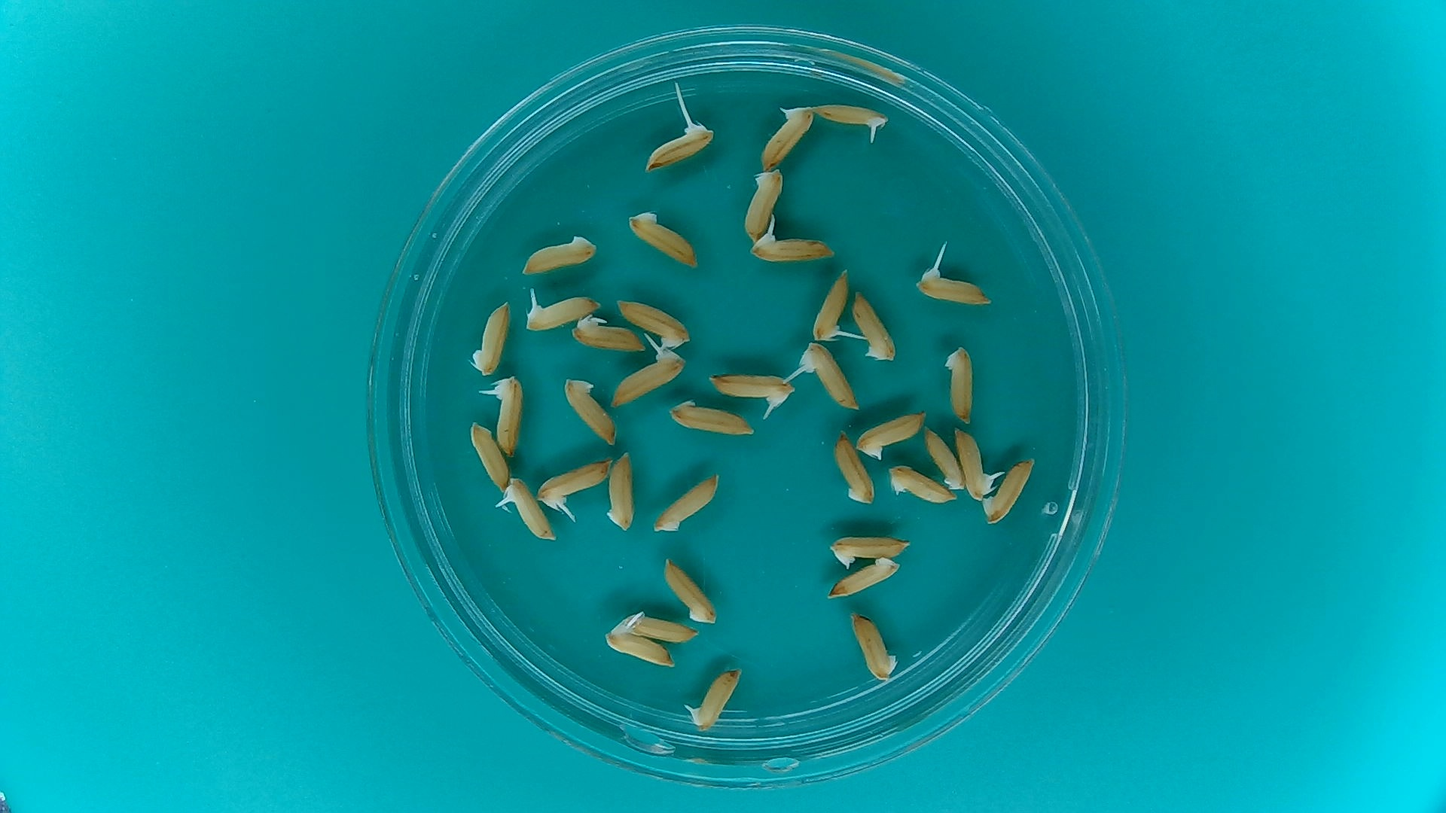no: (624, 206, 704, 271), (649, 468, 725, 536), (660, 554, 721, 626), (981, 453, 1038, 528), (847, 607, 902, 683), (852, 406, 929, 460), (517, 229, 601, 277), (850, 285, 899, 364), (565, 376, 618, 447), (830, 428, 877, 508), (823, 554, 904, 600), (737, 169, 786, 242), (667, 398, 758, 437), (466, 418, 513, 493), (941, 340, 981, 428), (825, 530, 914, 568), (471, 298, 511, 379), (920, 424, 965, 494), (885, 463, 956, 506), (606, 446, 638, 533), (620, 609, 699, 644)
yes: (609, 352, 686, 410), (800, 346, 861, 413), (615, 299, 692, 349), (759, 99, 817, 165), (691, 664, 744, 731), (643, 120, 710, 171), (537, 461, 611, 507), (522, 290, 603, 332), (508, 476, 557, 541), (710, 373, 792, 411), (602, 626, 676, 668), (914, 269, 990, 309), (952, 425, 991, 501), (812, 269, 851, 343), (573, 315, 648, 353), (750, 230, 829, 265), (493, 379, 527, 454), (810, 104, 889, 132)
